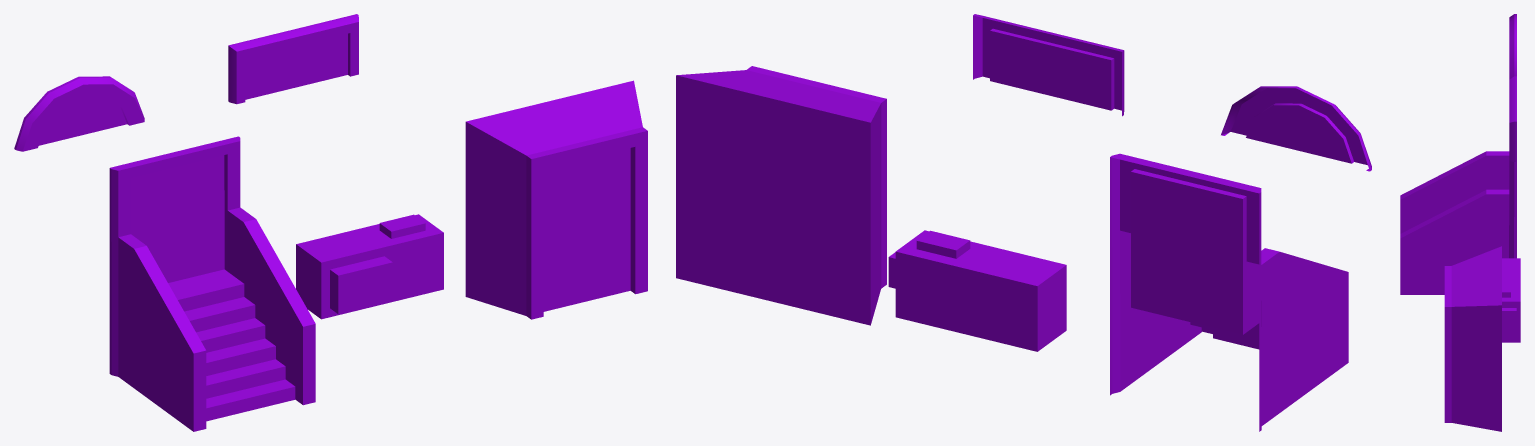
File: MESH_DoorwayAC_Pack.fbx
3 views of the same model, side by side, from view 1: azimuth 30°, elevation 25°; view 2: azimuth 150°, elevation 25°; view 3: azimuth 270°, elevation 25° (orthographic). The views are drawn at different scales.
Parts seen in each view (by area): view 1: MESH_Doorway, pCube3, MESH_Deco_AC, MESH_Doorway_WindowTwo, MESH_Doorway_WindowOne; view 2: pCube3, MESH_Doorway, MESH_Deco_AC, MESH_Doorway_WindowTwo, MESH_Doorway_WindowOne; view 3: MESH_Doorway, pCube3, MESH_Deco_AC, MESH_Doorway_WindowTwo, MESH_Doorway_WindowOne.
Part boxes in pixels (x1,y1,x2,y2): MESH_Doorway: [109, 136, 315, 431]; pCube3: [465, 80, 647, 319]; MESH_Deco_AC: [296, 214, 443, 319]; MESH_Doorway_WindowTwo: [228, 14, 358, 104]; MESH_Doorway_WindowOne: [14, 76, 144, 151]; pCube3: [676, 66, 886, 325]; MESH_Doorway: [1110, 153, 1348, 431]; MESH_Deco_AC: [888, 230, 1066, 351]; MESH_Doorway_WindowTwo: [973, 14, 1124, 116]; MESH_Doorway_WindowOne: [1221, 86, 1371, 171]; MESH_Doorway: [1400, 151, 1516, 294]; pCube3: [1444, 246, 1501, 431]; MESH_Deco_AC: [1502, 258, 1520, 342]; MESH_Doorway_WindowTwo: [1509, 76, 1516, 161]; MESH_Doorway_WindowOne: [1509, 14, 1516, 79].
Bounding box in the file's own units: 10.09 × 4.82 × 2.38.
